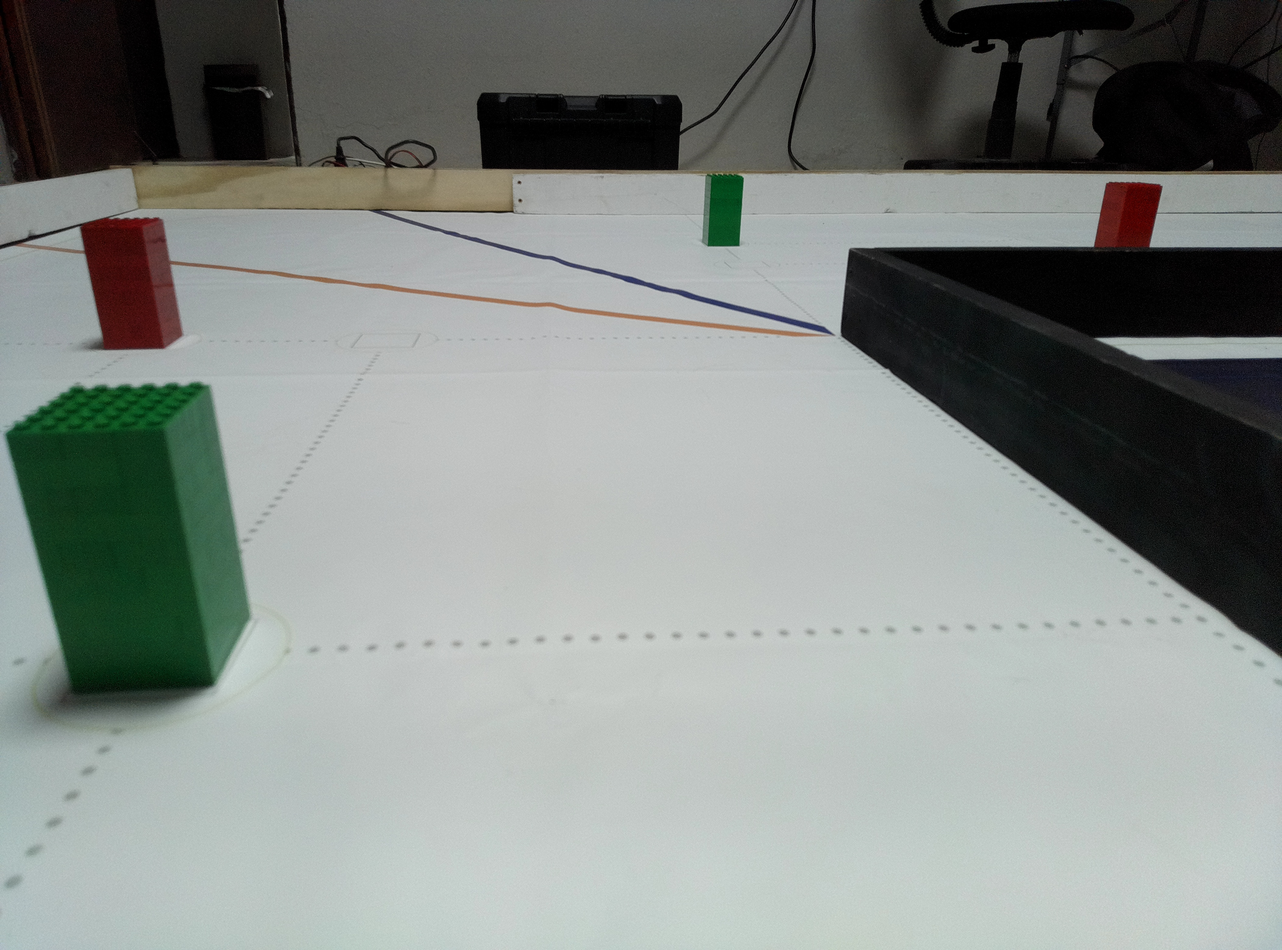greenbox: (4, 381, 251, 699), (701, 173, 744, 248)
redbox: (79, 215, 183, 349), (1091, 182, 1166, 249)
